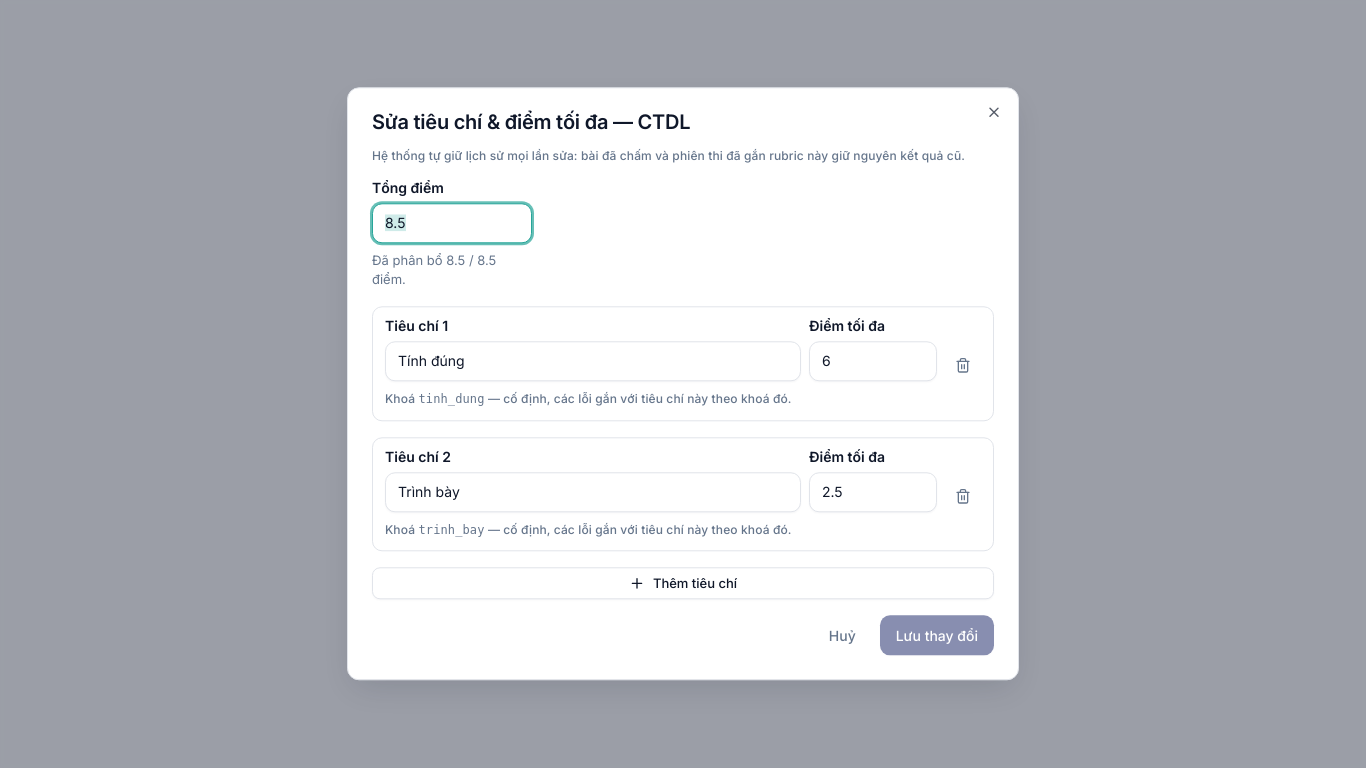
it: RubricDialog — sửa tiêu chí & điểm tối đa của một rubric › không xoá được tiêu chí cuối cùng
The width and height of the screenshot is (1366, 768).
Click the button named "Xoá tiêu chí 2".
click(963, 496)  # box [945,478,981,514]
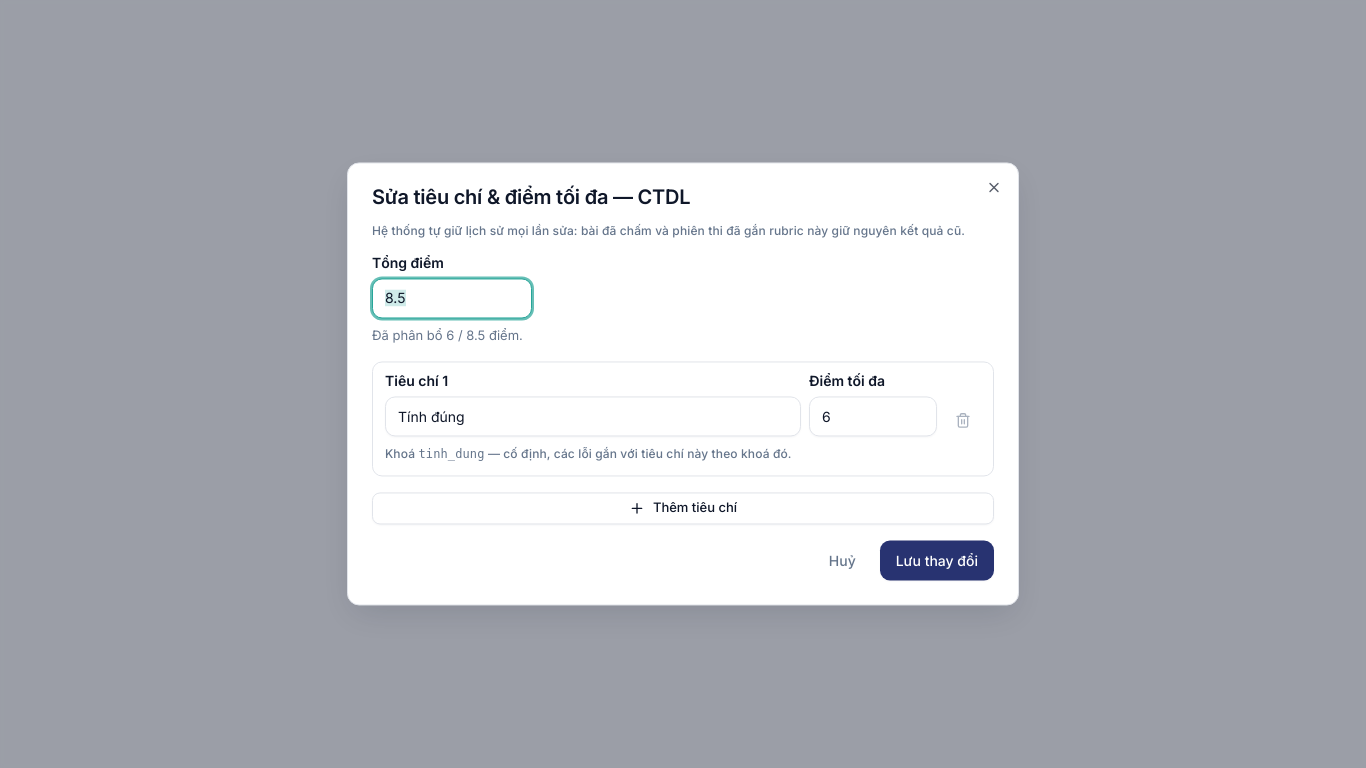
expect the button named "Xoá tiêu chí 1" is disabled: met, box [945,403,981,439]
